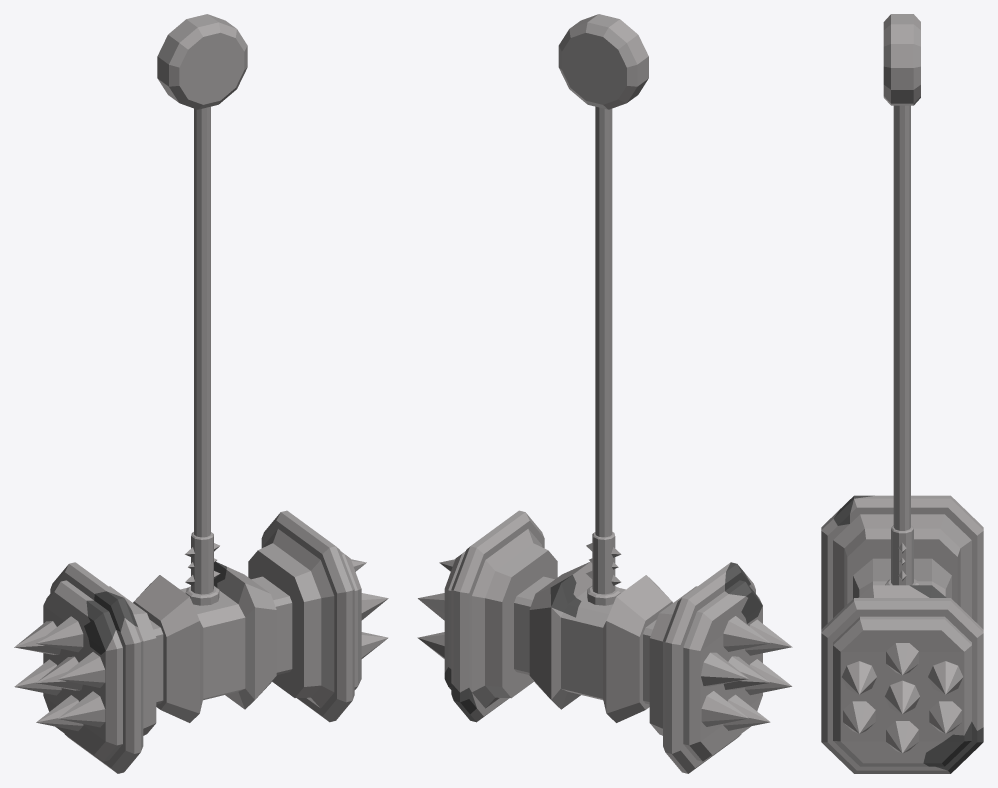
File: MetalPendulumTrap_14.fbx
The picture shows the model from 3 angles, left to right: view 1: azimuth 30°, elevation 25°; view 2: azimuth 150°, elevation 25°; view 3: azimuth 270°, elevation 25°; orthographic projection.
Visible parts, largest first — view 1: MetalPendulumTrap_14; view 2: MetalPendulumTrap_14; view 3: MetalPendulumTrap_14.
Boxes of the visible parts, bbox=[...] form: MetalPendulumTrap_14: bbox=[14, 14, 388, 773]; MetalPendulumTrap_14: bbox=[417, 14, 792, 773]; MetalPendulumTrap_14: bbox=[821, 14, 983, 773].
Size of the model in its own units: 159 by 326 by 68.32.
